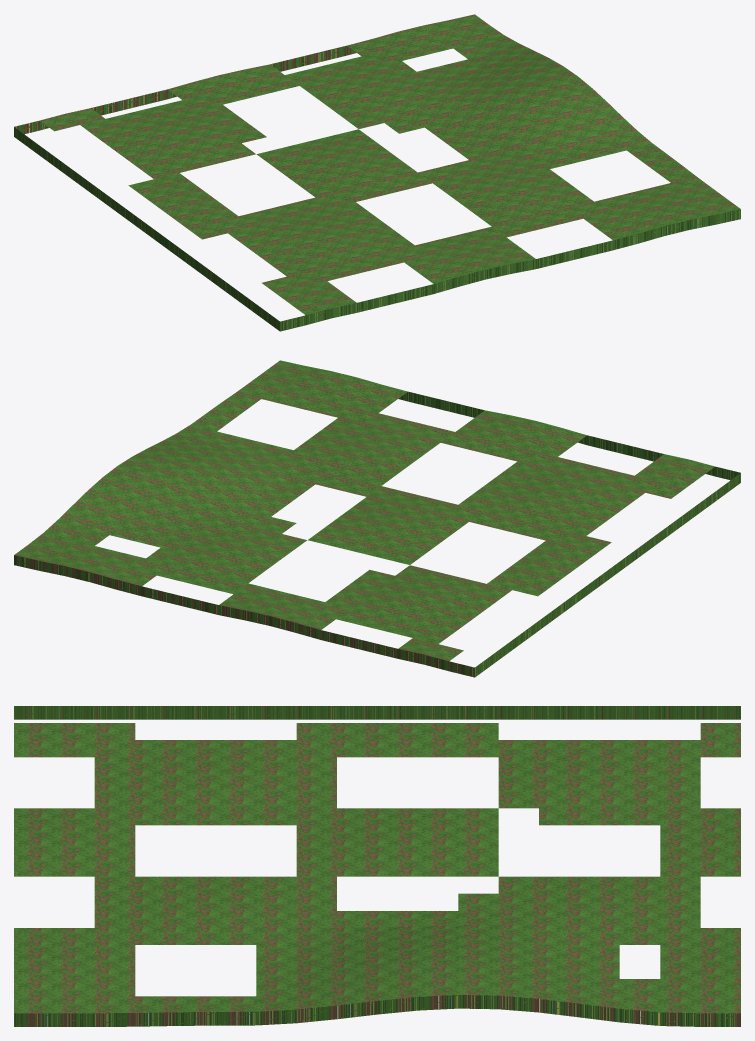
File: rv_terrain_20.gltf
The picture shows the model from 3 angles, top to bottom: view 1: azimuth 30°, elevation 25°; view 2: azimuth 150°, elevation 25°; view 3: azimuth 270°, elevation 25°; orthographic projection. The views are drawn at different scales.
Visible parts, largest first — view 1: RV_Terrain_20; view 2: RV_Terrain_20; view 3: RV_Terrain_20.
Boxes of the visible parts, bbox=[...] form: RV_Terrain_20: bbox=[14, 14, 740, 331]; RV_Terrain_20: bbox=[14, 360, 740, 677]; RV_Terrain_20: bbox=[14, 706, 740, 1026].
Size of the model in its own units: 72 by 3.56 by 72.
2 materials, 1 textured.
